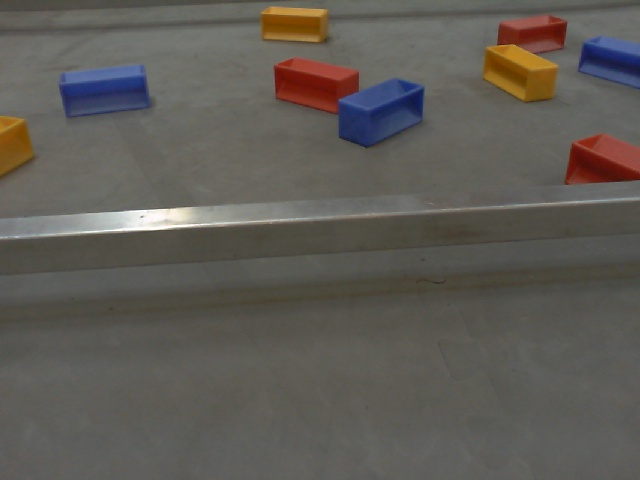BlueSample: (333, 77, 430, 148), (54, 60, 158, 119), (577, 32, 640, 94)
RedSample: (268, 53, 362, 117), (564, 129, 640, 188), (494, 13, 569, 54)
YellowSample: (480, 41, 560, 106), (258, 4, 331, 46), (1, 111, 36, 182)
